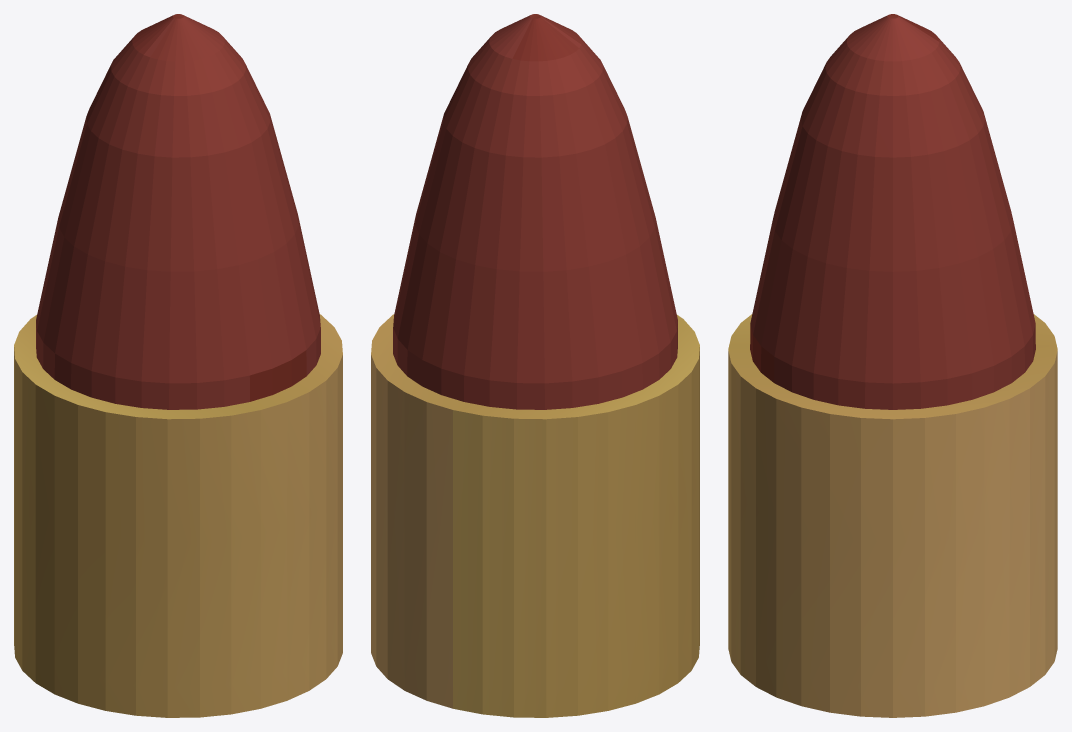
3 views of the same model, side by side, from view 1: azimuth 30°, elevation 25°; view 2: azimuth 150°, elevation 25°; view 3: azimuth 270°, elevation 25° (orthographic).
Parts seen in each view (by area): view 1: Cylinder.001; view 2: Cylinder.001; view 3: Cylinder.001.
Part boxes in pixels (<box>): Cylinder.001: <box>14,14,342,717</box>; Cylinder.001: <box>371,14,699,717</box>; Cylinder.001: <box>728,14,1057,717</box>.
Size of the model in its own units: 200 by 423 by 200.
1 material, 1 textured.
